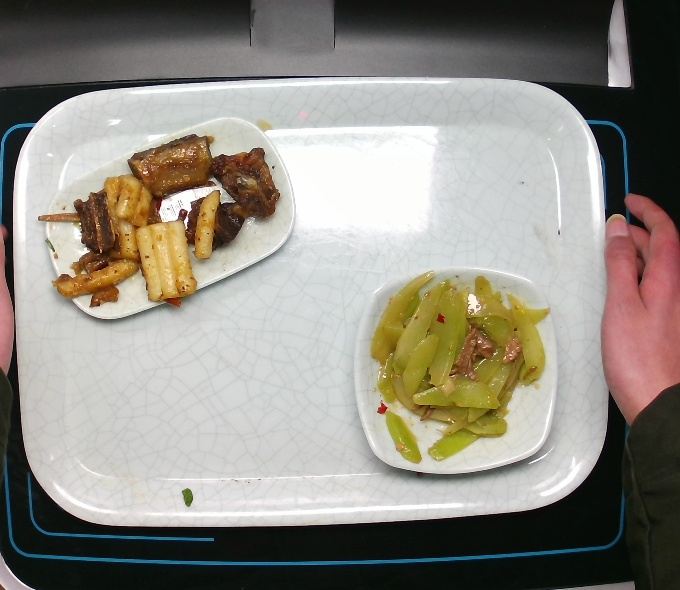wcq-NianGaoZaiPai: (36, 136, 282, 306)
wcq-WoSun: (368, 271, 550, 465)
